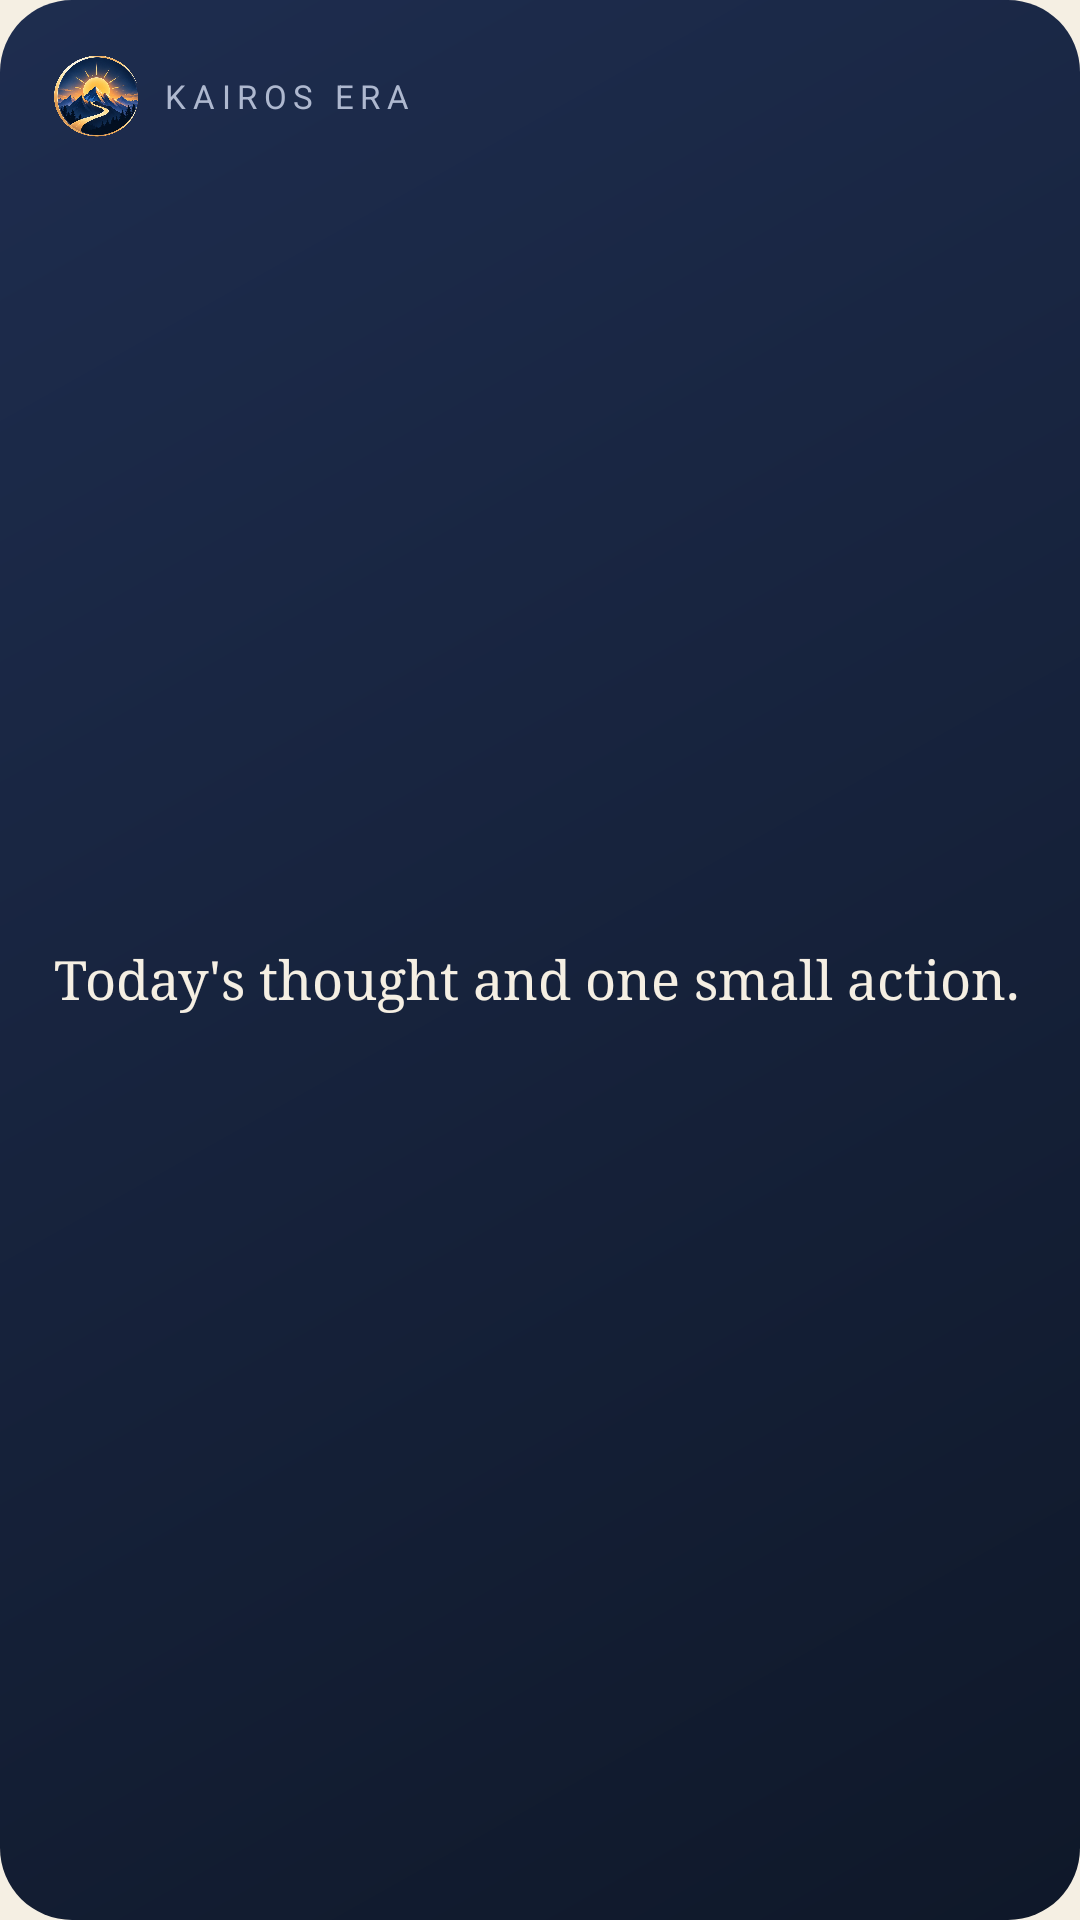

Named icons in this screenshot (1080x1920) and their bounding boxes, (x1, y1, x2, y2):
kairos emblem: (54, 56, 138, 137)
